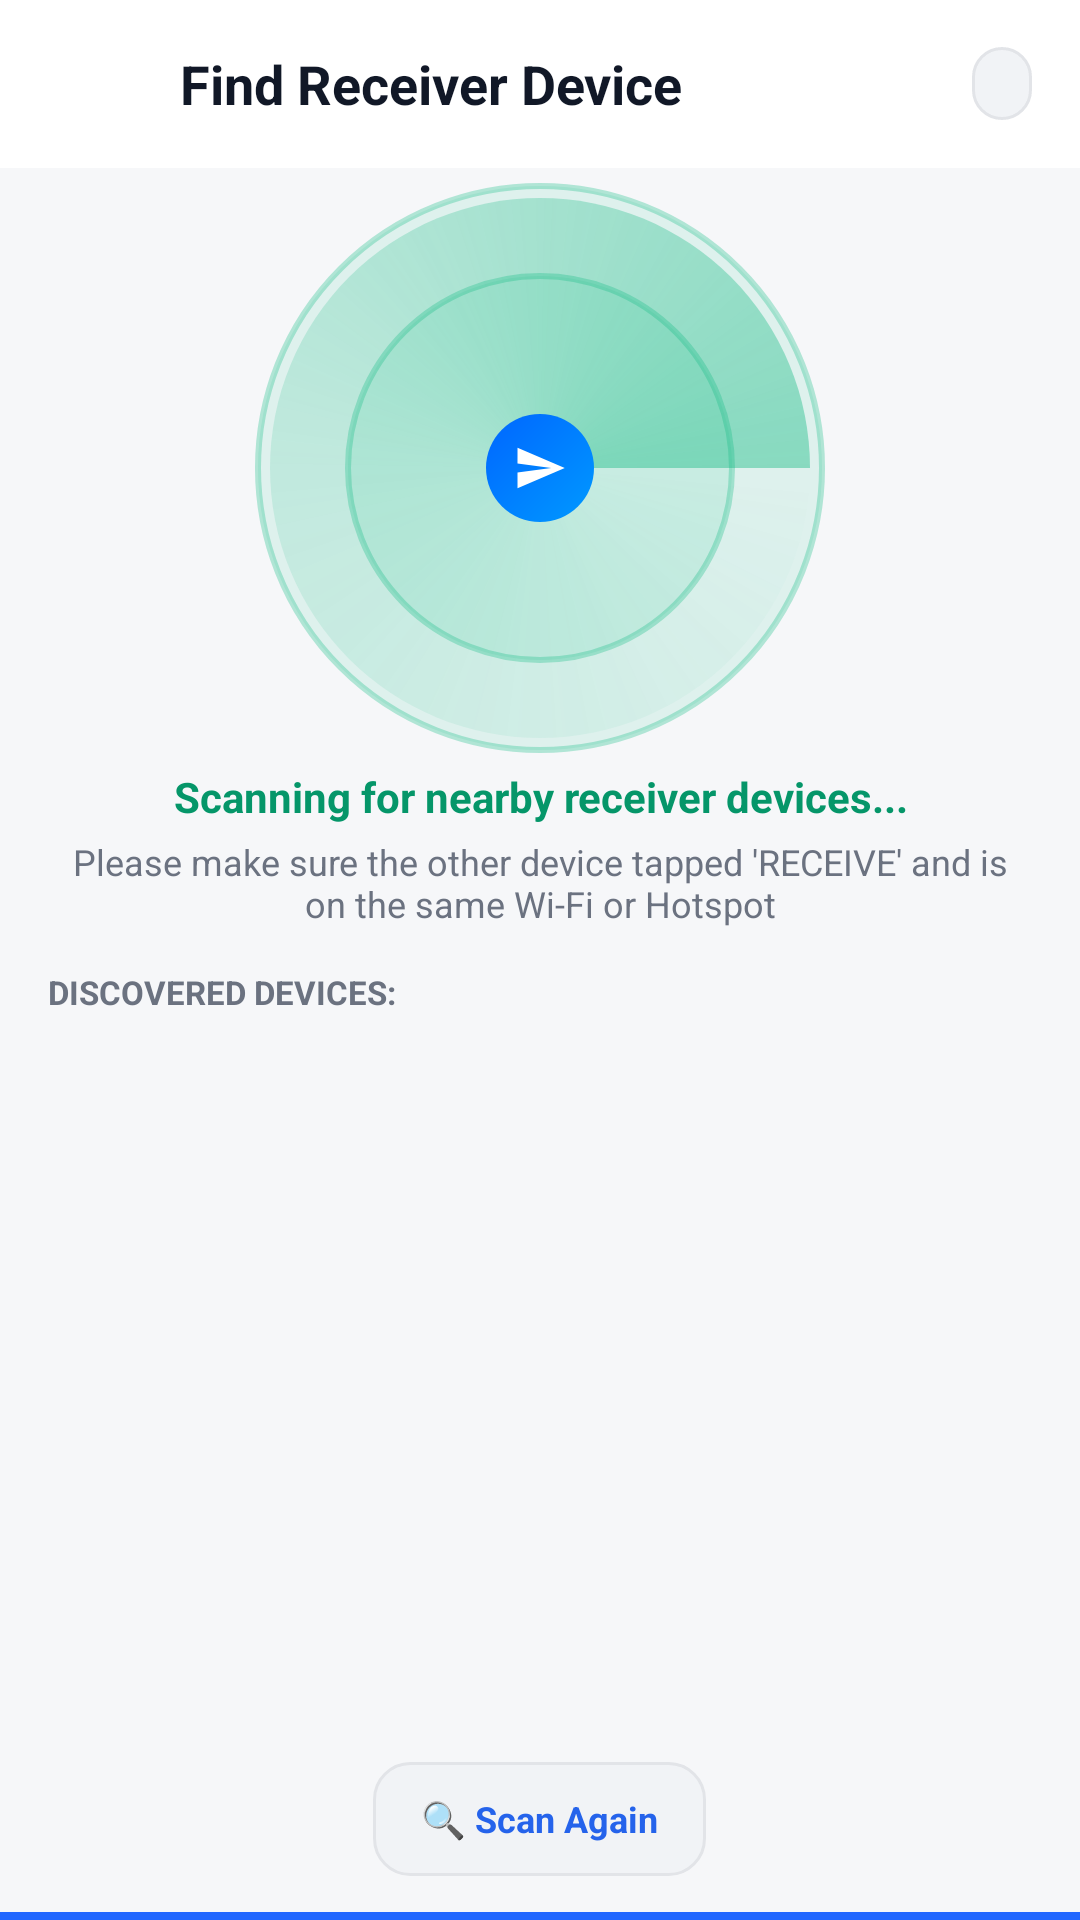

Icon click points for this 1080w x 1920h phone screenshot, format (x,y):
send arrow: (541,468)
